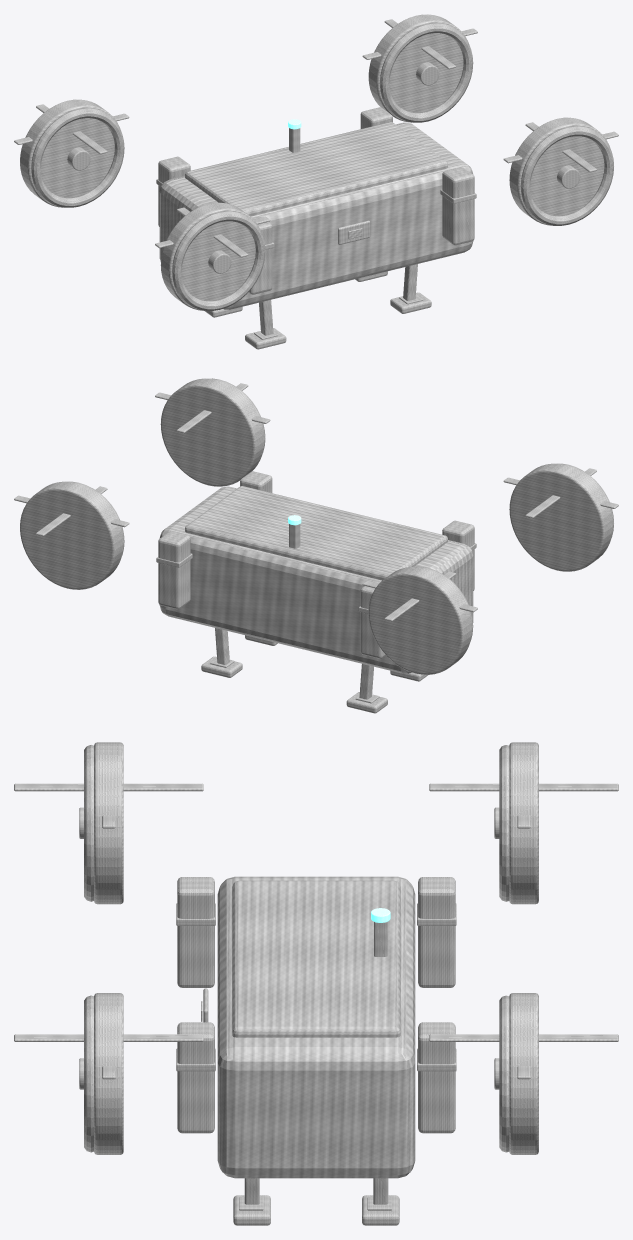
File: drone_variant_d.glb
3 renders of one model, top to bottom at view 1: azimuth 30°, elevation 25°; view 2: azimuth 150°, elevation 25°; view 3: azimuth 270°, elevation 25°, orthographic. The views are drawn at different scales.
Visible parts, largest first — view 1: Central fuselage, Modular upper cover, Ducted rotor housing.001, Ducted rotor housing.002, Ducted rotor housing, Ducted rotor housing.003, Rotor safety duct.001, Rotor safety duct.003, Rotor safety duct.002, Rotor safety duct, Rotor arm.013, Rotor arm.012 (+6 smaller); view 2: Central fuselage, Modular upper cover, Ducted rotor housing.003, Ducted rotor housing, Ducted rotor housing.002, Ducted rotor housing.001, Rotor arm.015, Rotor arm.014, Rotor arm.012, Rotor arm.013, Landing foot.015, Landing foot.013 (+1 smaller); view 3: Central fuselage, Modular upper cover, Ducted rotor housing, Ducted rotor housing.002, Ducted rotor housing.001, Ducted rotor housing.003, Rotor arm.012, Rotor arm.014, Rotor arm.013, Rotor arm.015, Rotor safety duct, Rotor safety duct.003 (+6 smaller).
Part boxes in pixels (x1,y1,x2,y2): Central fuselage: (159,122,473,309); Modular upper cover: (185,122,447,216); Ducted rotor housing.001: (509,117,610,225); Ducted rotor housing.002: (20,99,121,207); Ducted rotor housing: (160,202,261,310); Ducted rotor housing.003: (368,14,469,122); Rotor safety duct.001: (172,211,265,310); Rotor safety duct.003: (31,108,124,207); Rotor safety duct.002: (520,126,613,225); Rotor safety duct: (379,23,473,122); Rotor arm.013: (442,167,474,245); Rotor arm.012: (248,216,272,294); Central fuselage: (159,486,473,673); Modular upper cover: (185,486,447,580); Ducted rotor housing.003: (20,481,123,589); Ducted rotor housing: (509,463,612,571); Ducted rotor housing.002: (368,566,472,674); Ducted rotor housing.001: (160,378,264,486); Rotor arm.015: (158,531,190,609); Rotor arm.014: (360,580,385,658); Rotor arm.012: (442,520,474,590); Rotor arm.013: (240,471,272,492); Landing foot.015: (201,656,242,677); Landing foot.013: (346,692,387,713); Central fuselage: (217,876,415,1178); Modular upper cover: (232,880,400,1037); Ducted rotor housing: (94,742,123,904); Ducted rotor housing.002: (509,742,538,904); Ducted rotor housing.001: (94,993,123,1154); Ducted rotor housing.003: (509,993,538,1154); Rotor arm.012: (177,877,214,987); Rotor arm.014: (418,877,455,987); Rotor arm.013: (177,1022,214,1133); Rotor arm.015: (418,1022,455,1133); Rotor safety duct: (499,995,509,1152); Rotor safety duct.003: (499,745,509,901).
Size of what is drawn, in the model's own units: 7.92 by 3.22 by 6.12.
Materials: 8 (8 with a texture image).
